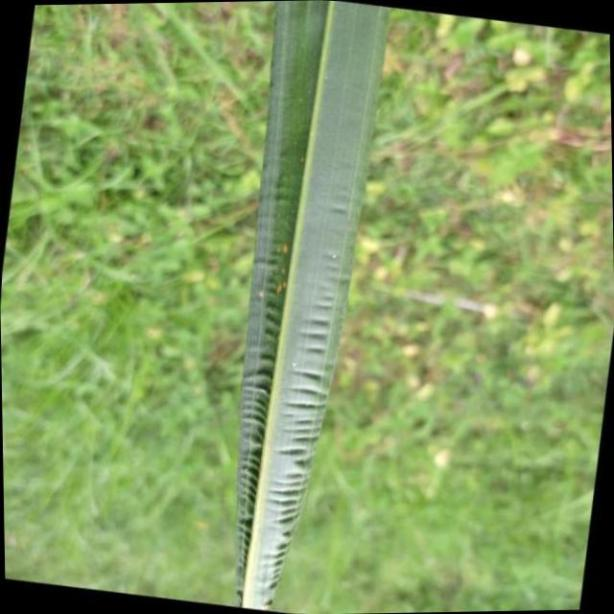Boron: (232, 0, 390, 614)
